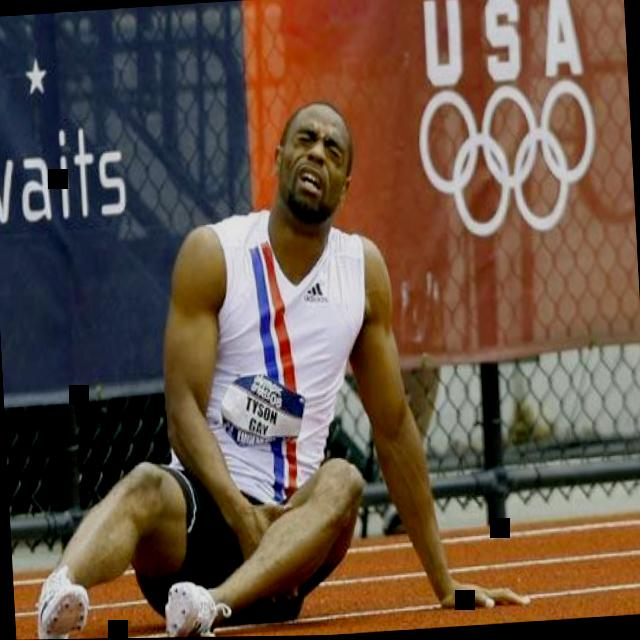Fall-Detected: (2, 79, 538, 637)
